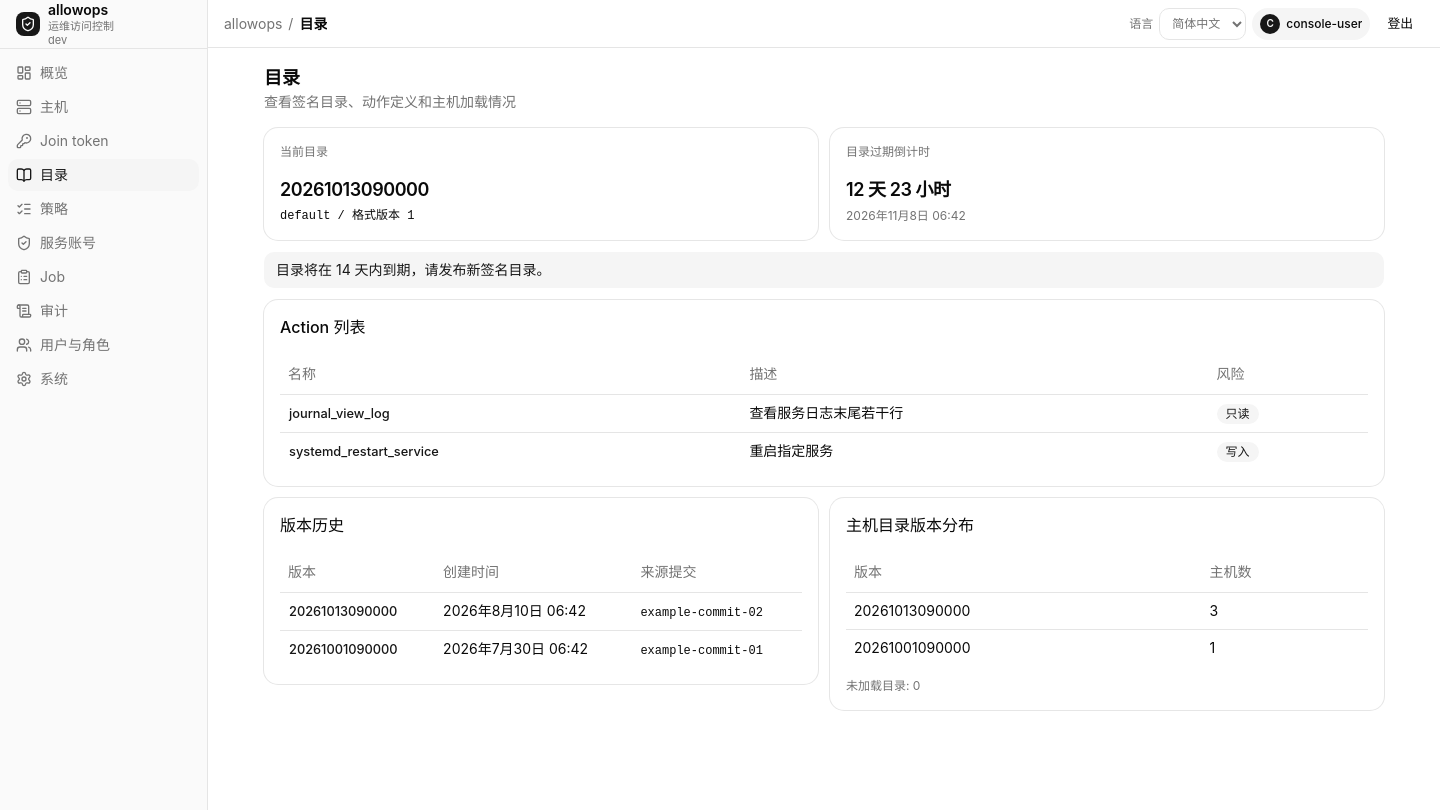
Test case: console pages › opens action details in catalog
Expected: the heading "目录" is shown, top-left (264, 67), bottom-right (300, 88)
Expected: the text "目录过期倒计时" is shown, top-left (846, 144), bottom-right (930, 159)
Click the button "journal_view_log".
click(339, 414)  # box top-left (288, 404), bottom-right (391, 424)
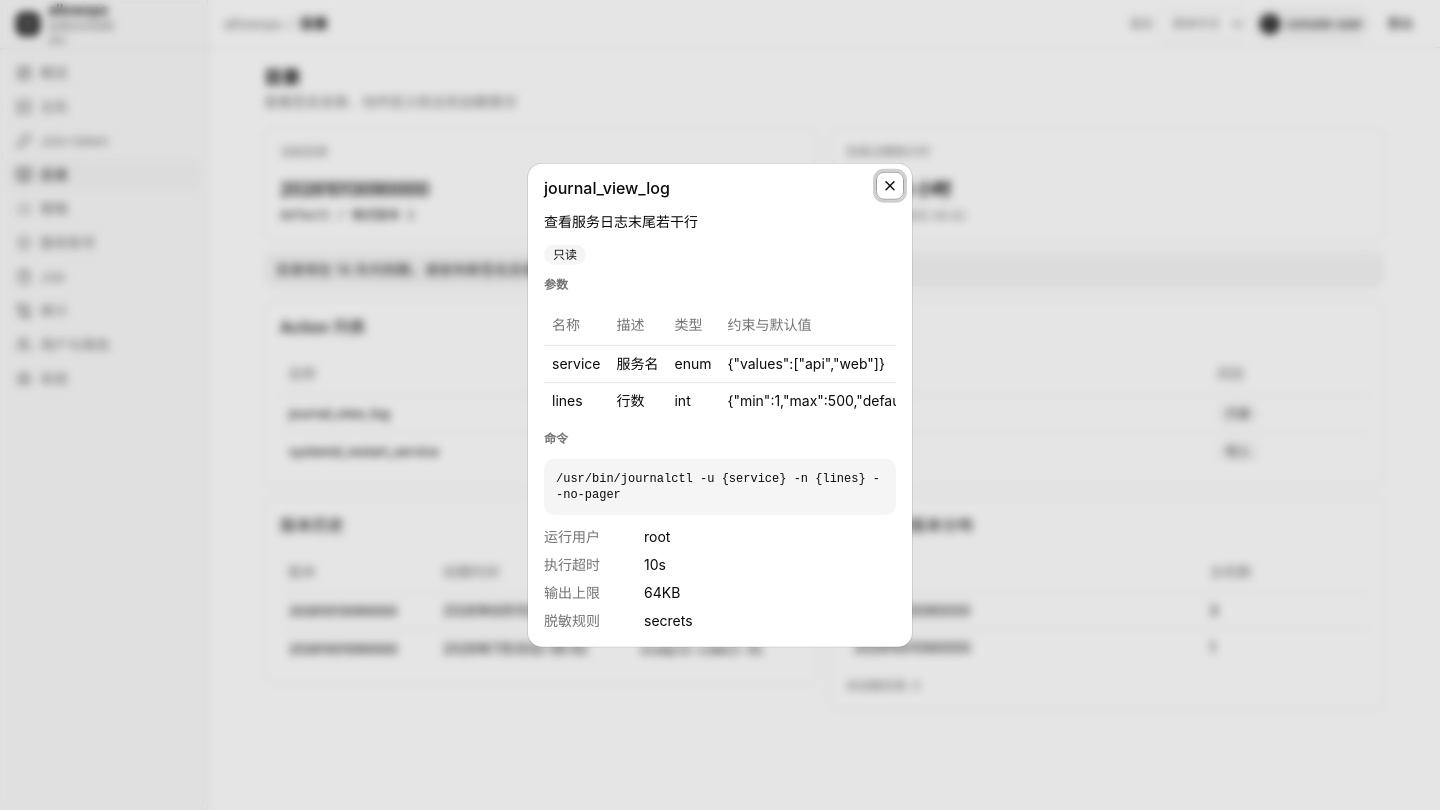
Expected: the text "/usr/bin/journalctl -u {service} -n {lines} --no-pager" is shown, top-left (544, 458), bottom-right (896, 514)
Expected: the text "secrets" is shown, top-left (644, 611), bottom-right (693, 628)
